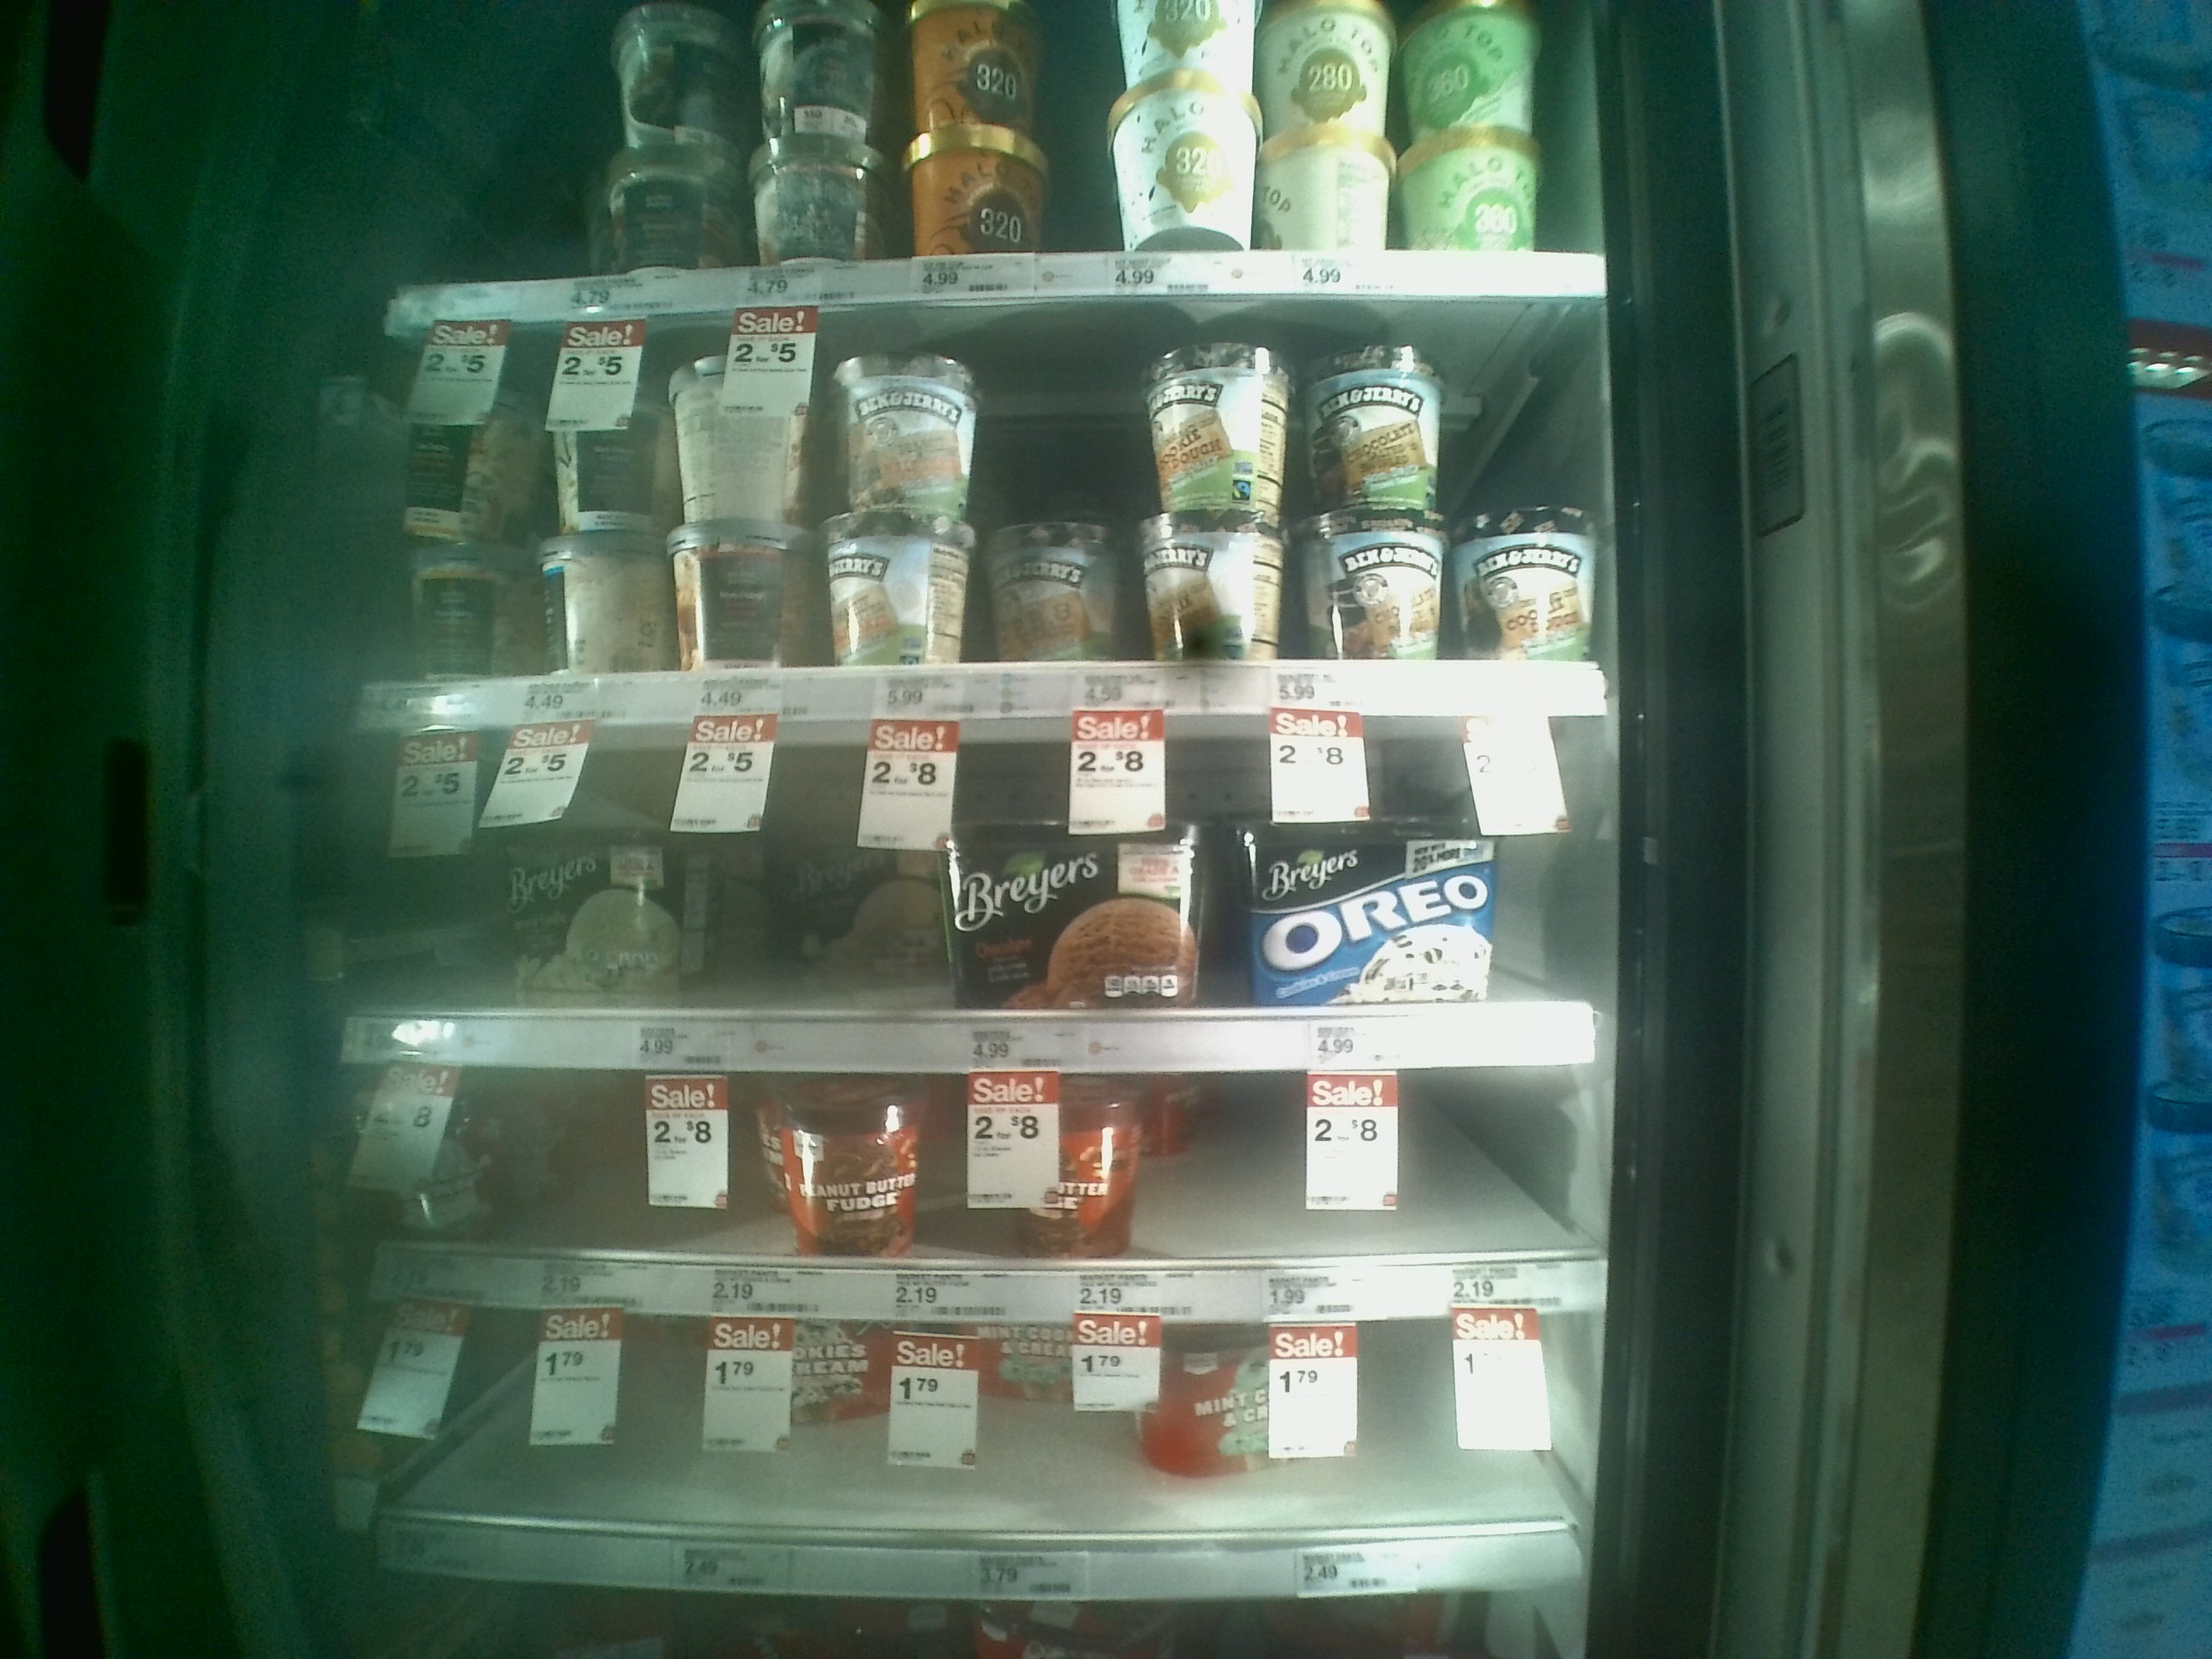ice-cream-shelf: (354, 295, 1611, 713), (359, 718, 1611, 1068), (390, 1314, 1575, 1596), (361, 1068, 1609, 1316)
